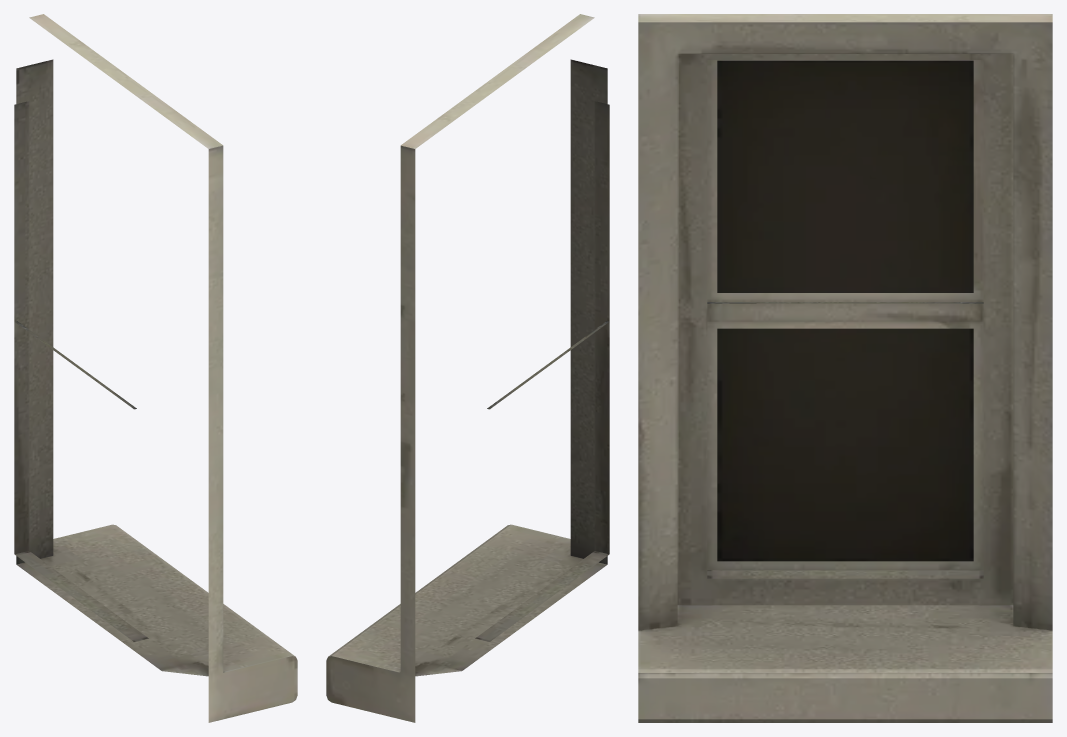
3 views of the same model, side by side, from view 1: azimuth 30°, elevation 25°; view 2: azimuth 150°, elevation 25°; view 3: azimuth 270°, elevation 25° (orthographic). The views are drawn at different scales.
Parts seen in each view (by area): view 1: body0_model0_lod0_mesh0; view 2: body0_model0_lod0_mesh0; view 3: body0_model0_lod0_mesh0.
Part boxes in pixels (x1,y1,x2,y2): body0_model0_lod0_mesh0: [14, 14, 297, 722]; body0_model0_lod0_mesh0: [326, 14, 609, 722]; body0_model0_lod0_mesh0: [638, 14, 1052, 722].
Size of the model in its own units: 13.5 by 55.5 by 31.5.
Materials: 1 (1 with a texture image).
